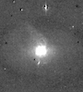Halpha: (22, 14, 55, 47), (33, 56, 49, 77)
